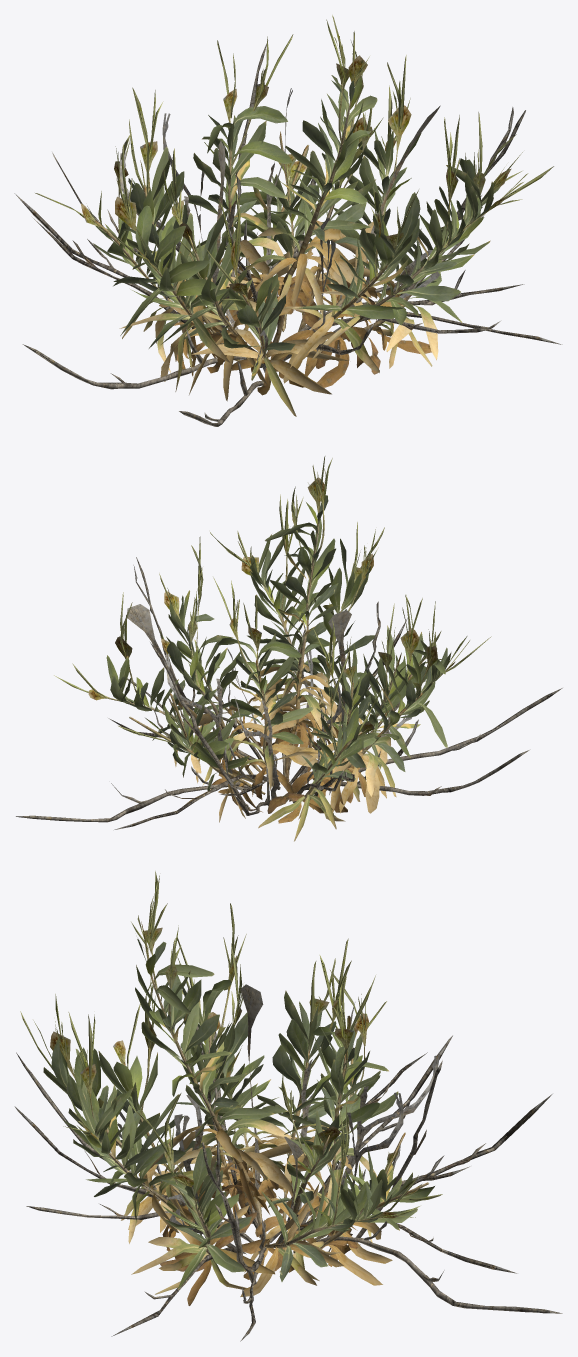
The model's file is plant-2-near.glb.
3 renders of one model, top to bottom at view 1: azimuth 30°, elevation 25°; view 2: azimuth 150°, elevation 25°; view 3: azimuth 270°, elevation 25°, orthographic. The views are drawn at different scales.
Visible parts, largest first — view 1: Rhazya stricta; view 2: Rhazya stricta; view 3: Rhazya stricta.
Boxes of the visible parts, box(x1,y1,x2,y2) form: Rhazya stricta: box(14, 15, 562, 426); Rhazya stricta: box(16, 456, 562, 841); Rhazya stricta: box(14, 871, 562, 1341).
Bounding box in the file's own units: 1.05 × 0.7491 × 0.9686.
Materials: 1 (1 with a texture image).
